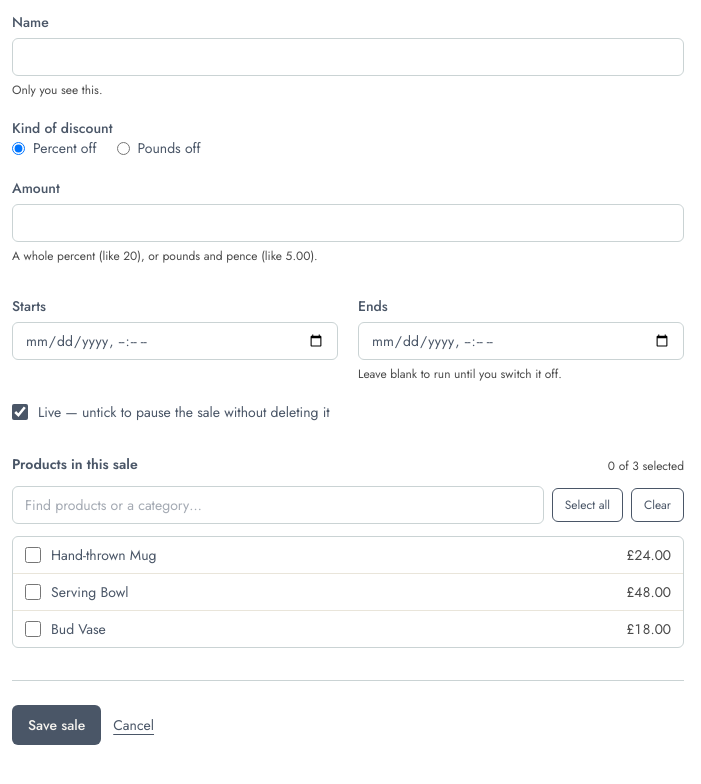
Test case: SaleForm, when a save is rejected › keeps what was typed
Type "Summer sale" into the field labelled "Name" at (348, 57), box 12,38 -> 684,76
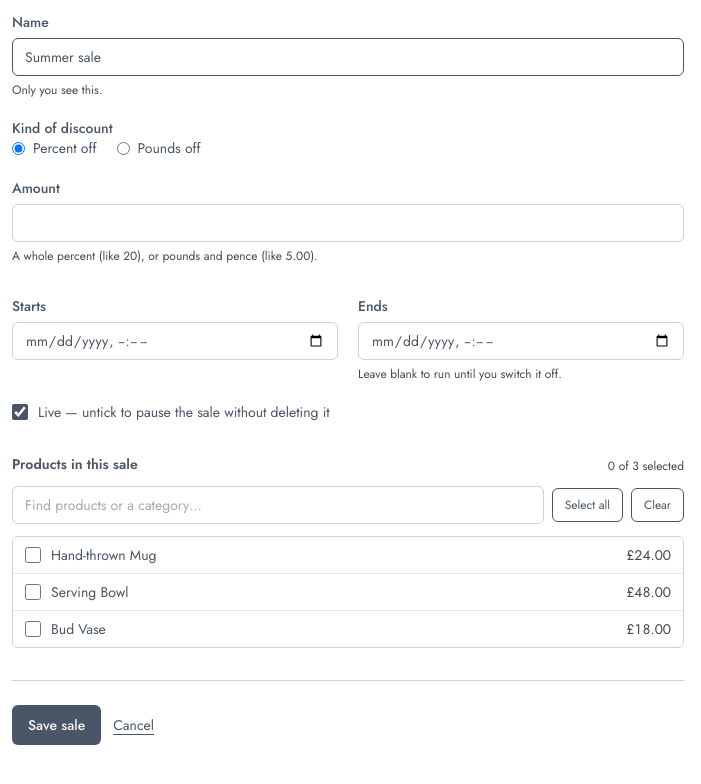
Type "15" into the field labelled "Amount" at (348, 223), box 12,204 -> 684,242
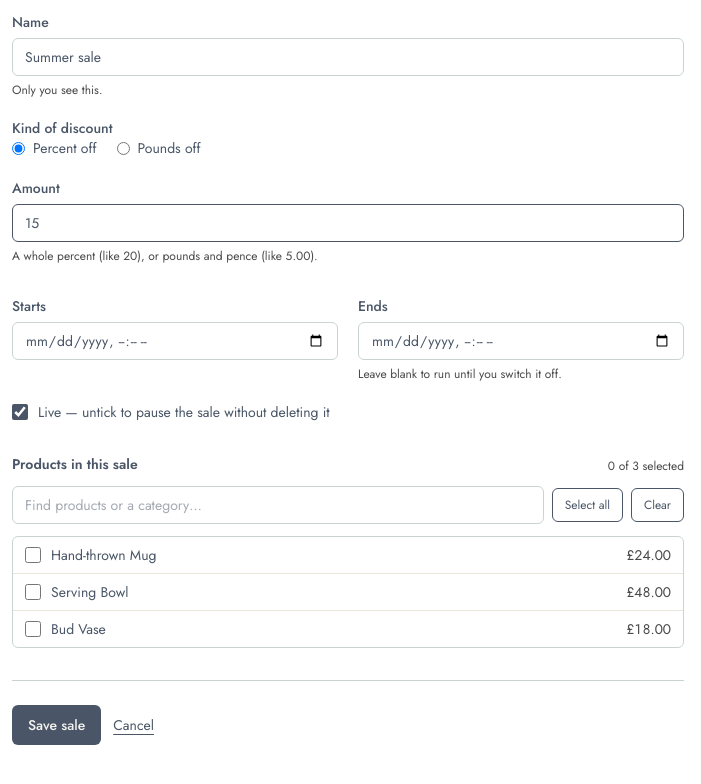
Click the button "Save sale" at (57, 725), box 12,705 -> 101,745
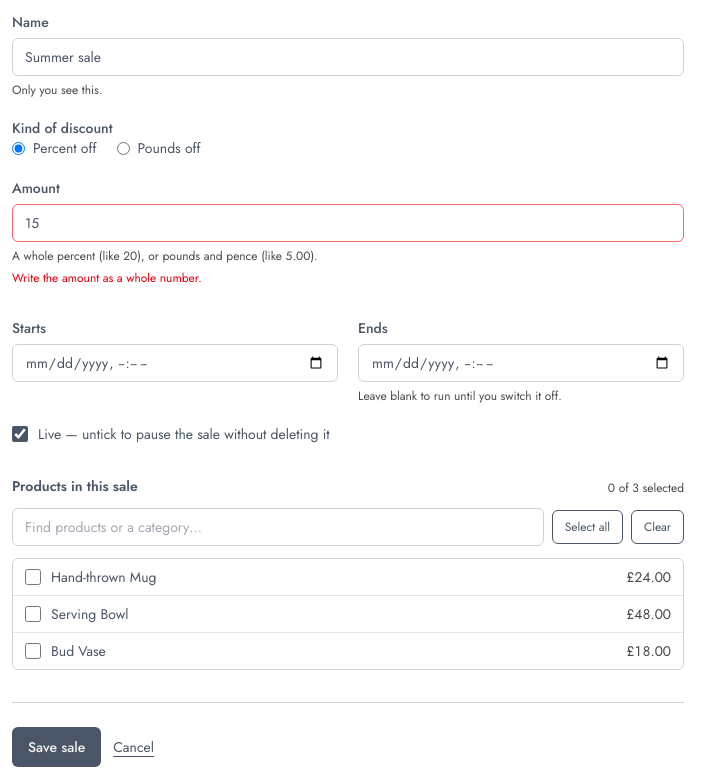
Expected: the text "Write the amount as a whole number." is shown, 12,269 -> 202,287
